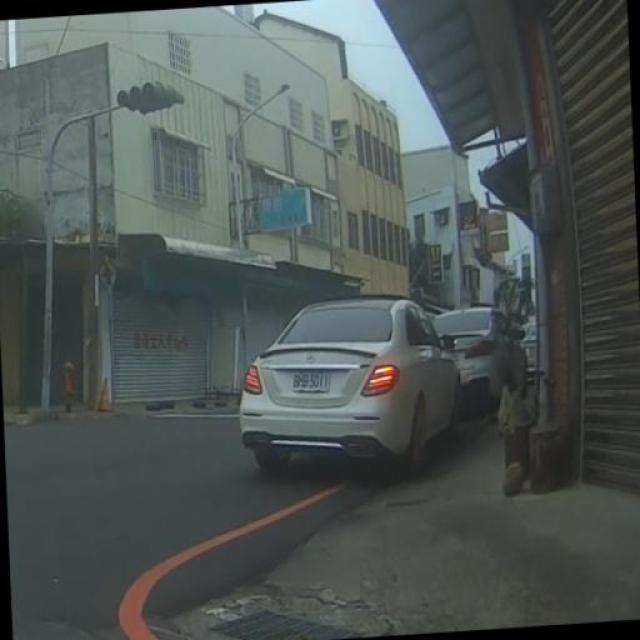illegalparking: (201, 257, 519, 523)
